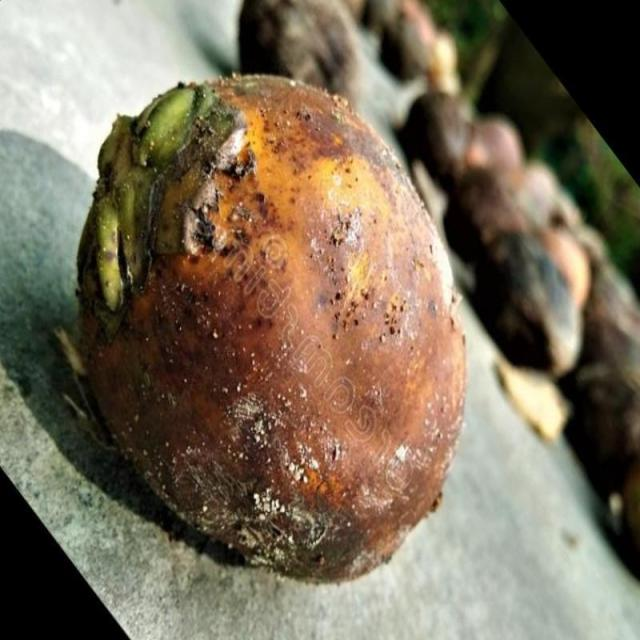damaged: (77, 75, 465, 581)
